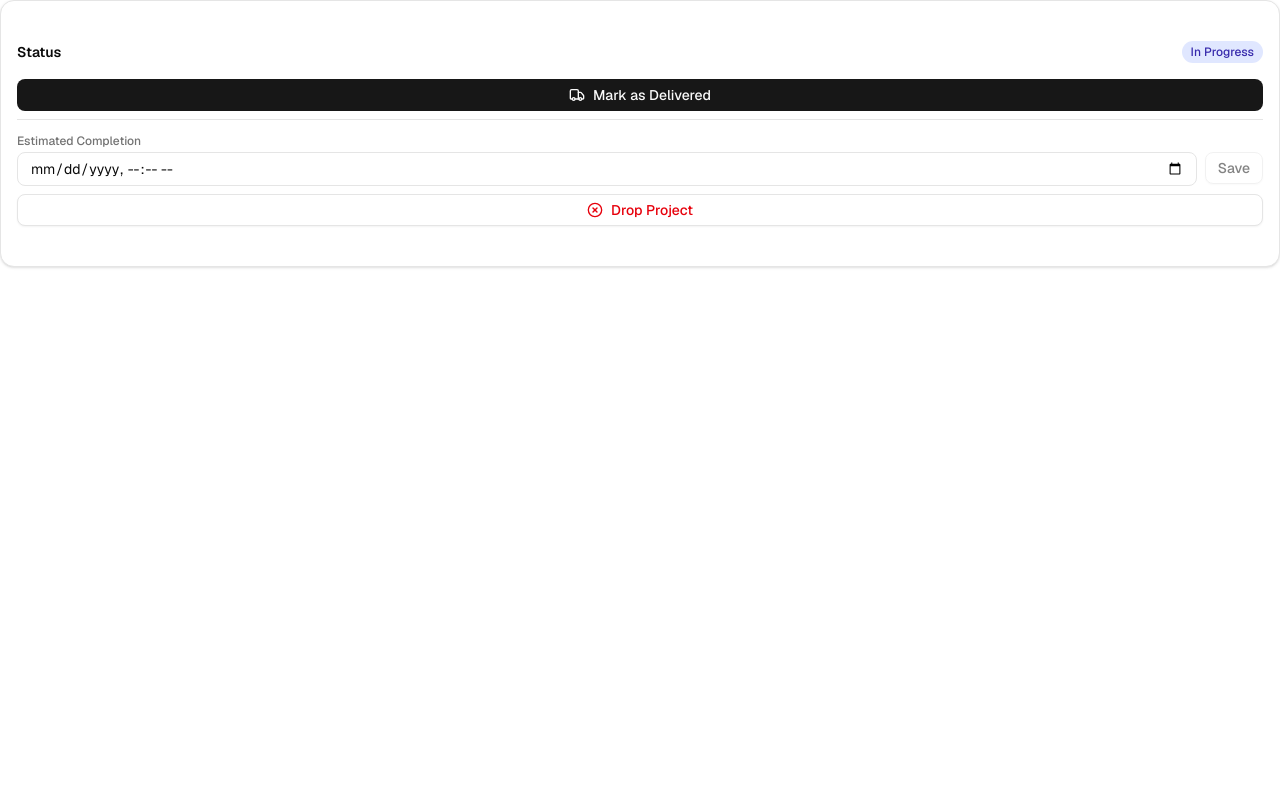
Test: DesignerStatusControls › opens confirmation dialog when Mark as Delivered is clicked
The width and height of the screenshot is (1280, 800).
Click the button "Mark as Delivered": (640, 95) [17,79,1263,111]
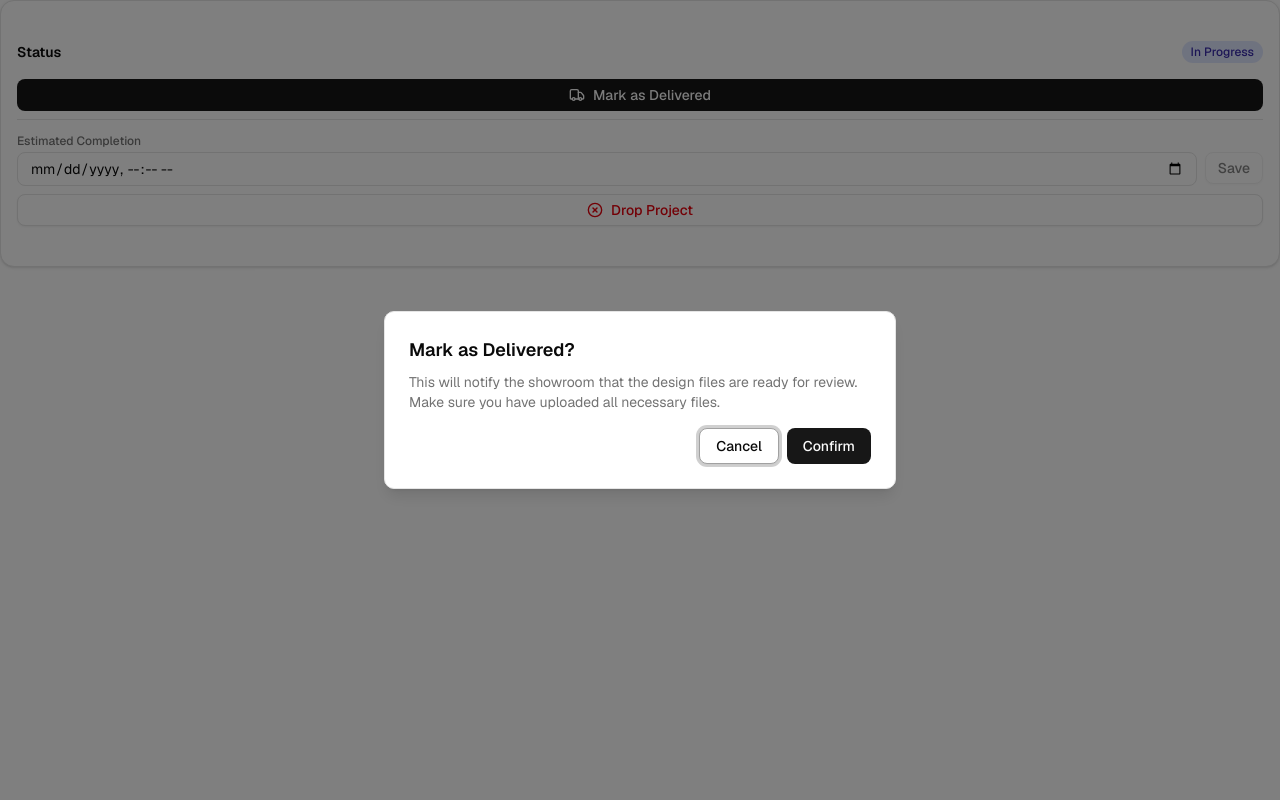
Now the heading "Mark as Delivered?" is shown, box [409,338,575,361]
